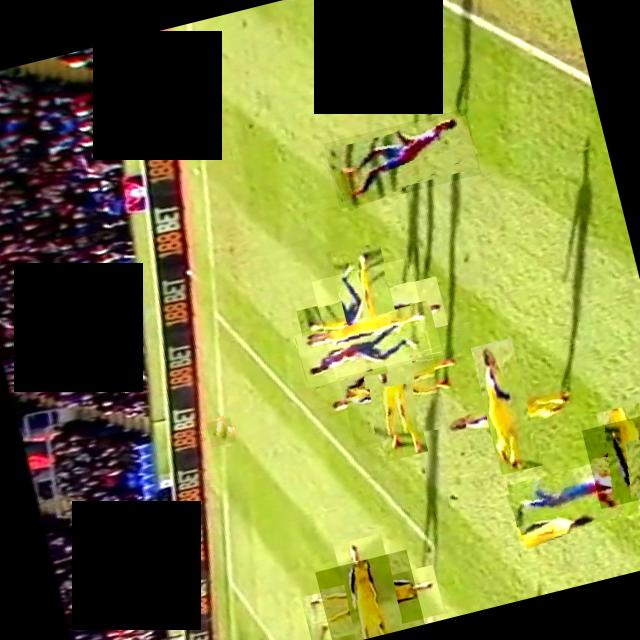ball: (204, 417, 234, 447)
soccer-player: (322, 108, 480, 208), (310, 257, 432, 378), (503, 445, 640, 545), (332, 332, 447, 448), (292, 302, 442, 388), (453, 354, 558, 458), (313, 549, 423, 640), (580, 411, 640, 509)
